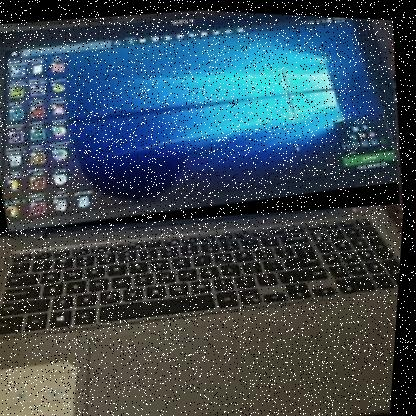Normal: (0, 0, 413, 251)
